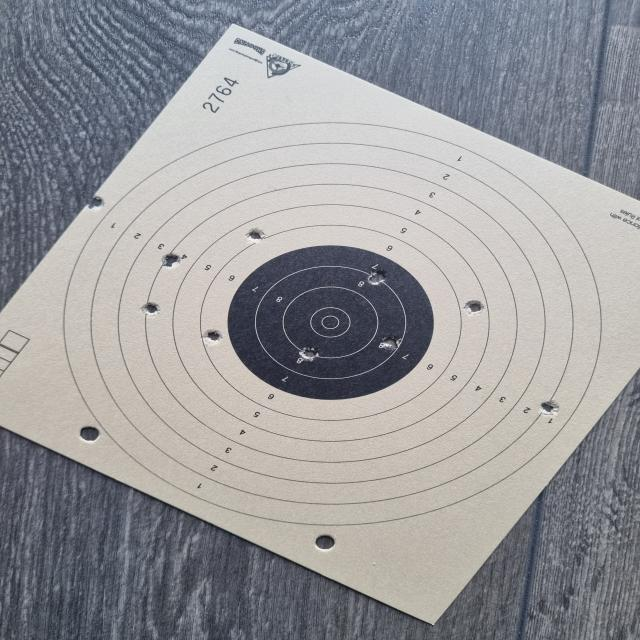10: (298, 348, 318, 360)
3: (539, 400, 559, 415)
5: (161, 254, 180, 267), (141, 303, 160, 316)
6: (464, 300, 484, 315)
7: (246, 228, 268, 242), (202, 330, 222, 342)
9: (381, 336, 402, 349), (373, 268, 388, 282), (368, 273, 380, 285)
Black Contour: (232, 247, 432, 401)
Target: (61, 119, 602, 527)
hole: (86, 196, 105, 210)
